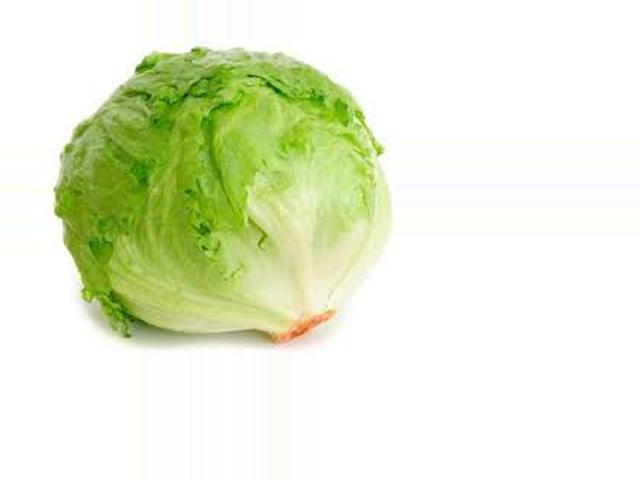lettuce: (56, 46, 370, 332)
